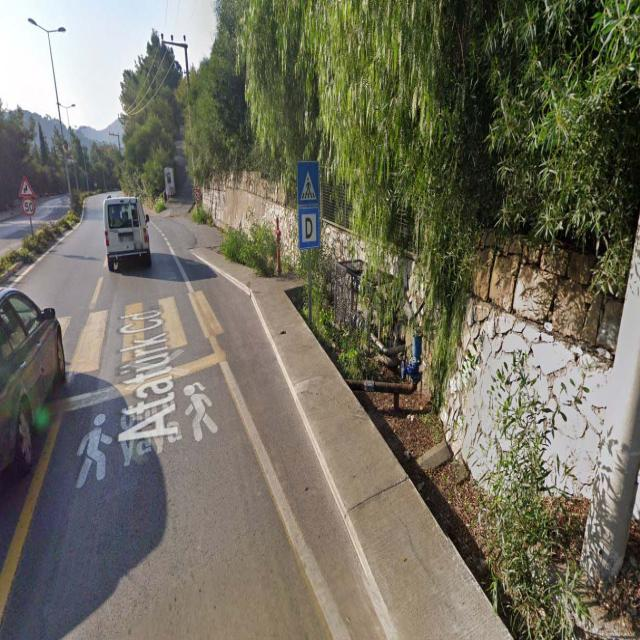durak: (298, 209, 319, 247)
